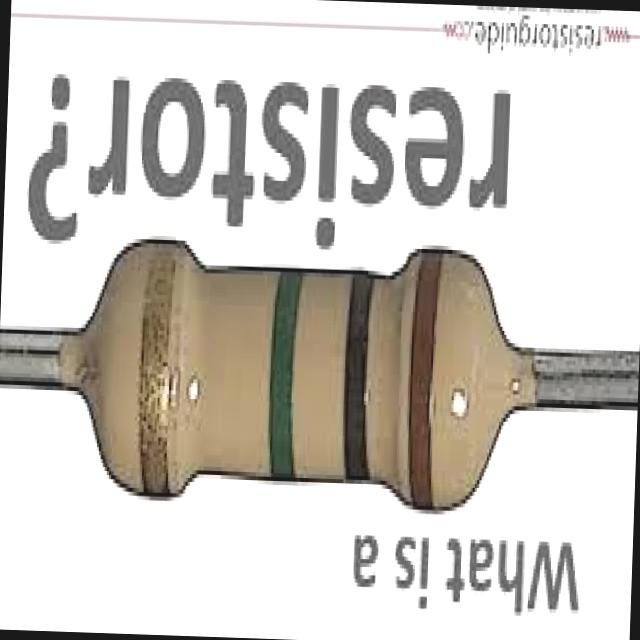Resistor: (77, 247, 501, 510)
black: (340, 262, 369, 494)
brown: (405, 244, 444, 520)
gold: (129, 232, 176, 502)
green: (267, 267, 299, 480)
